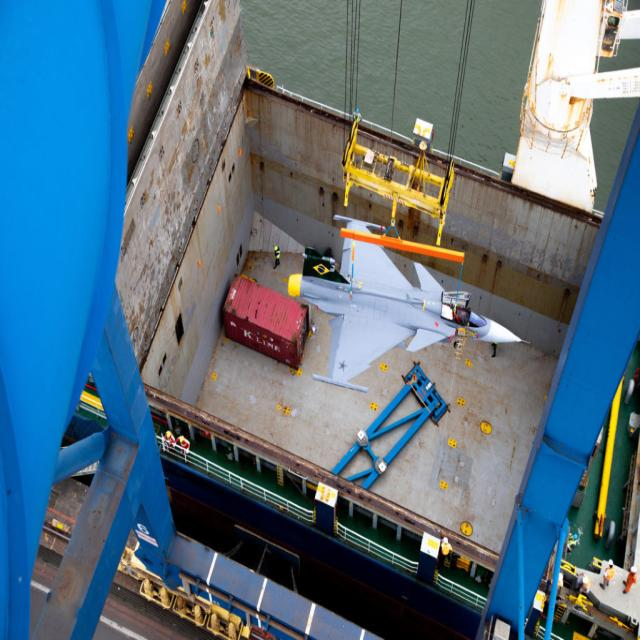MIL_Plane: (288, 215, 530, 392)
